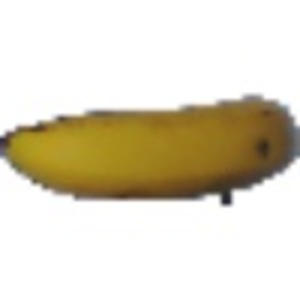banana: (2, 90, 297, 206)
